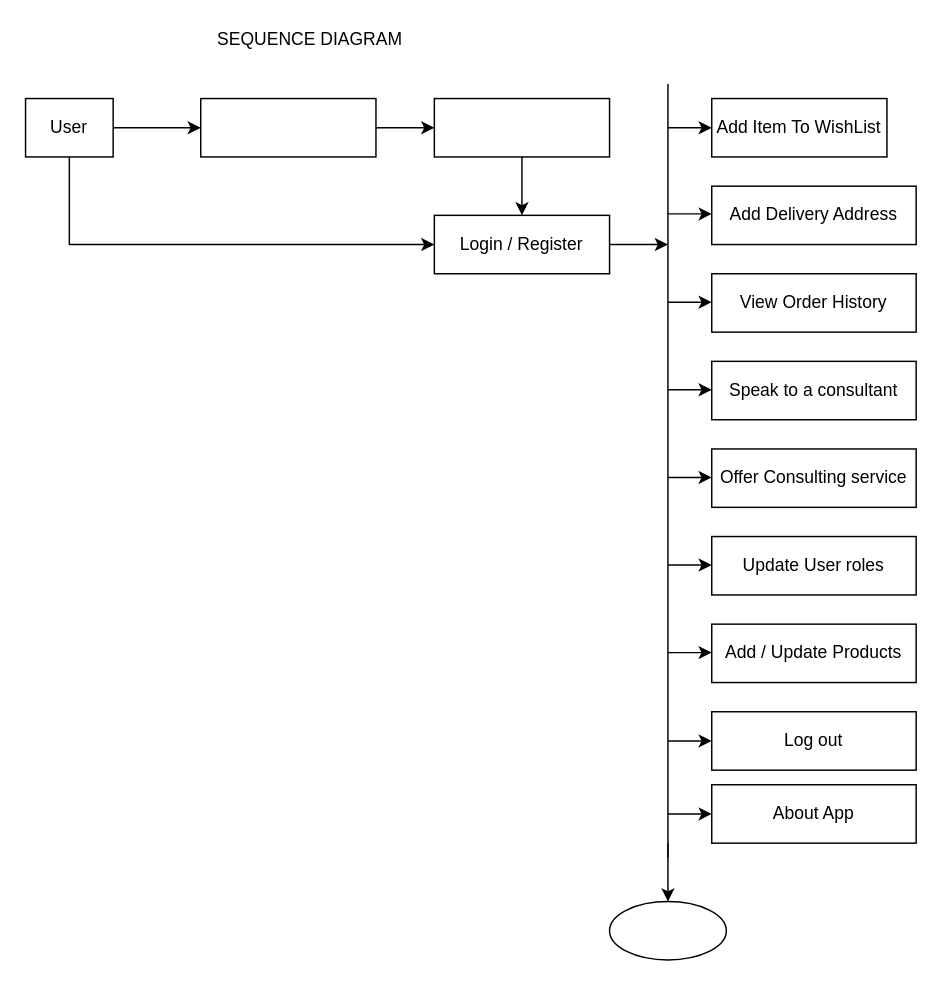
The diagram is 942 pixels wide and 986 high, and some of its shapes have lost their labels. Each missing label, with the centre of its shape:
"Add Items to Cart" goes at (287,127).
"Check Out Cart" goes at (521,127).
"Exit" goes at (667,930).
